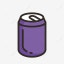paper: (16, 12, 48, 59)
